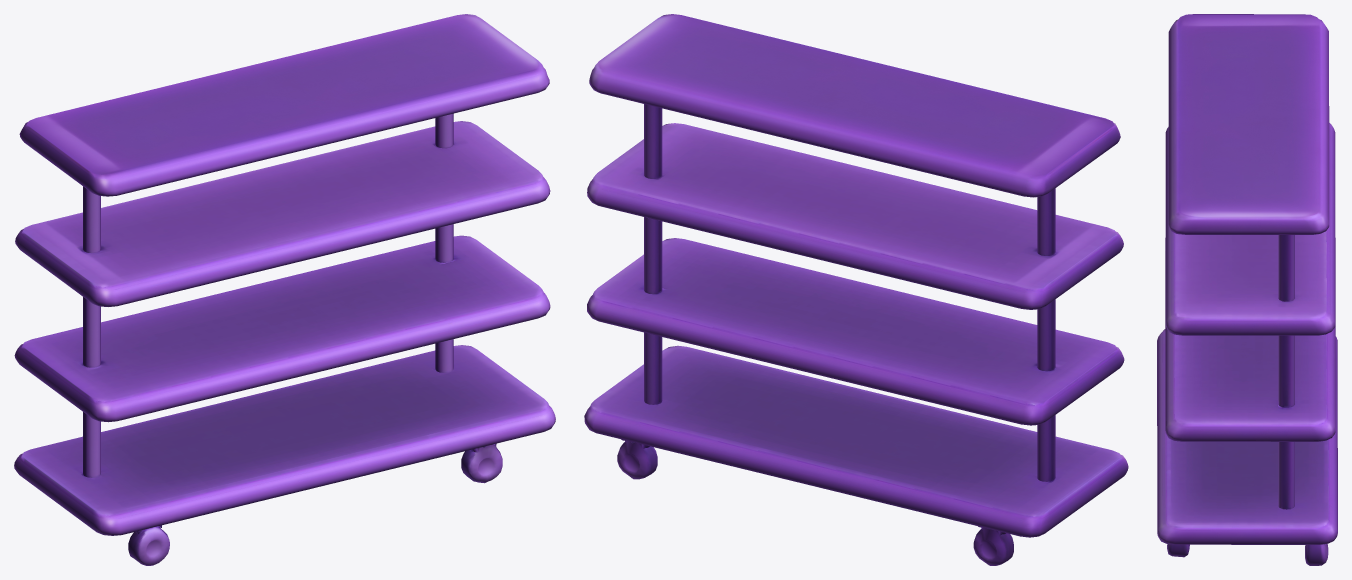
Rendered from PurpleShelf_2.fbx.
3 renders of one model, left to right at view 1: azimuth 30°, elevation 25°; view 2: azimuth 150°, elevation 25°; view 3: azimuth 270°, elevation 25°, orthographic. The views are drawn at different scales.
Visible parts, largest first — view 1: PurpleShelf_2; view 2: PurpleShelf_2; view 3: PurpleShelf_2.
Boxes of the visible parts, x1,y1,x2,y2 form: PurpleShelf_2: (14,14,555,565); PurpleShelf_2: (584,14,1128,565); PurpleShelf_2: (1157,14,1337,565).
Size of the model in its own units: 99.95 by 36.87 by 82.67.
